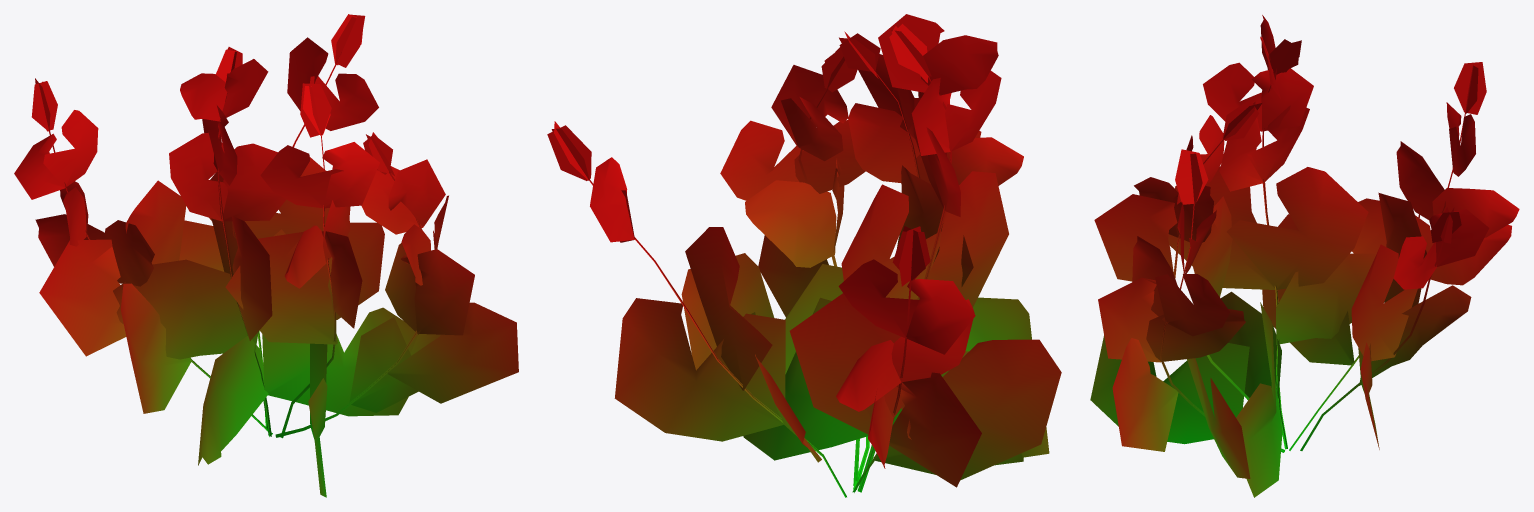
Rendered from White Ramping Fumitory_LOD2_Var1_ti4efc3ia.fbx.
The picture shows the model from 3 angles, left to right: view 1: azimuth 30°, elevation 25°; view 2: azimuth 150°, elevation 25°; view 3: azimuth 270°, elevation 25°; orthographic projection. The views are drawn at different scales.
Parts seen in each view (by area): view 1: _a18f_Var1_LOD2; view 2: _a18f_Var1_LOD2; view 3: _a18f_Var1_LOD2.
Boxes of the visible parts, box(x1,y1,x2,y2) form: _a18f_Var1_LOD2: box(14, 14, 518, 497); _a18f_Var1_LOD2: box(547, 14, 1061, 497); _a18f_Var1_LOD2: box(1090, 15, 1519, 497).
Bounding box in the file's own units: 81.29 × 87.66 × 86.33.
